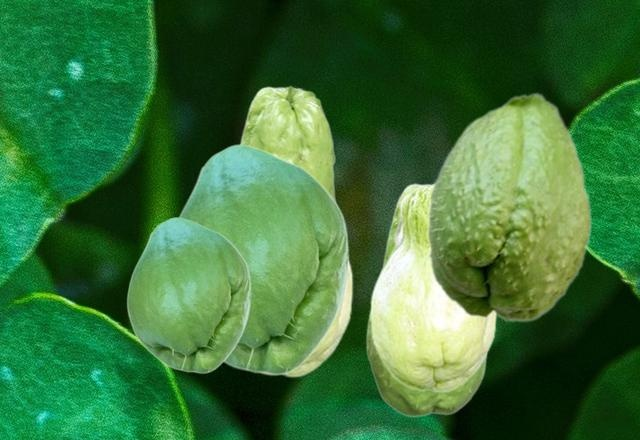sayote: (178, 144, 348, 375), (426, 91, 592, 322), (365, 182, 487, 417), (369, 182, 496, 392), (126, 217, 250, 373), (256, 250, 352, 377), (239, 85, 336, 200)
